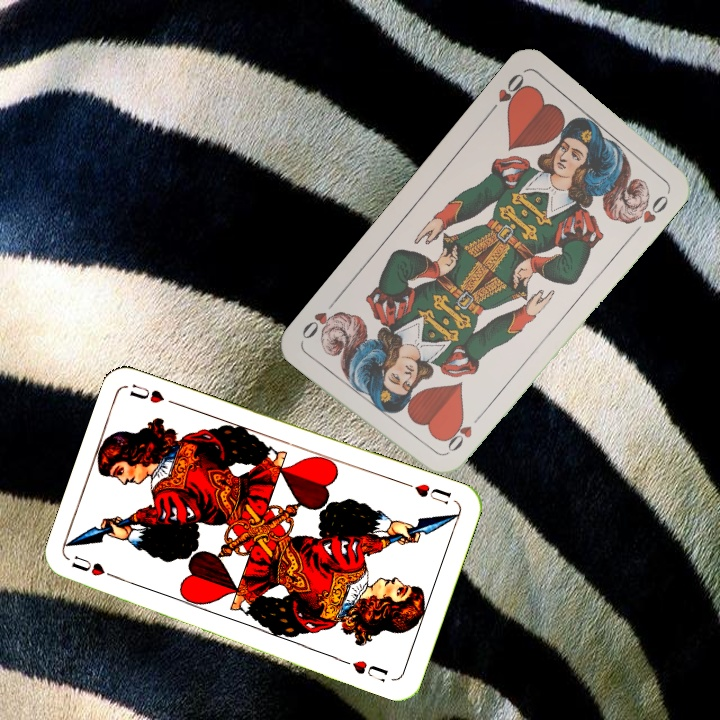HO: (484, 69, 530, 118), (440, 410, 485, 459)
HU: (67, 552, 123, 583), (400, 478, 454, 507)
